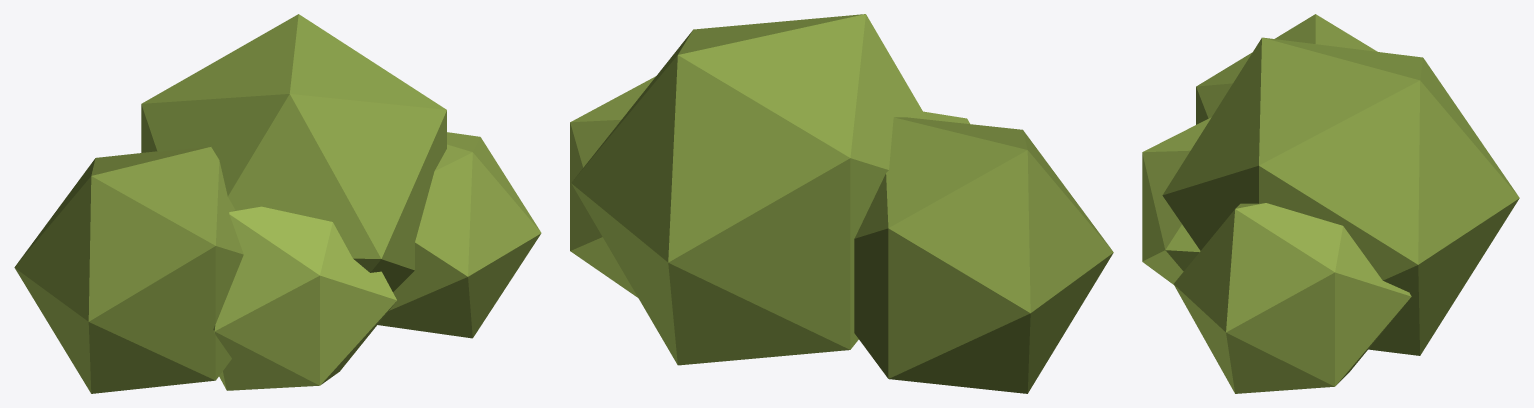
File: Bush_Round.glb
3 views of the same model, side by side, from view 1: azimuth 30°, elevation 25°; view 2: azimuth 150°, elevation 25°; view 3: azimuth 270°, elevation 25° (orthographic). The views are drawn at different scales.
Visible parts, largest first — view 1: Bush_Round; view 2: Bush_Round; view 3: Bush_Round.
Part boxes in pixels (<box>): Bush_Round: <box>14,14,541,393</box>; Bush_Round: <box>570,14,1113,393</box>; Bush_Round: <box>1142,14,1519,393</box>.
Bounding box in the file's own units: 1.01 × 0.6 × 0.7436.
